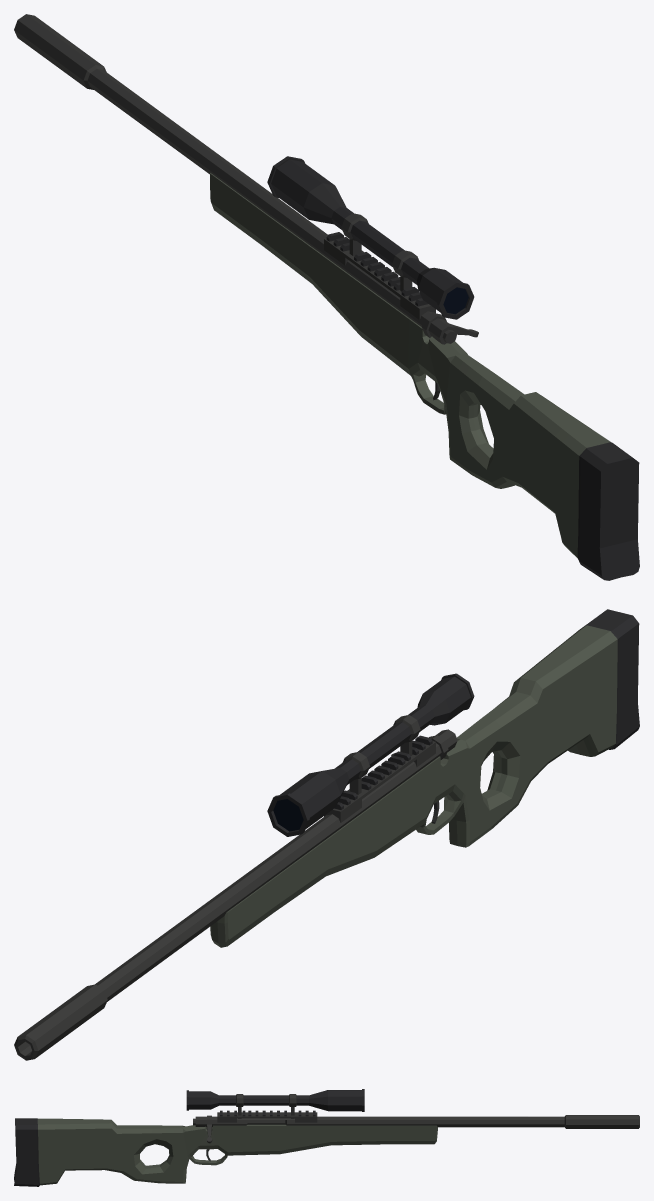
Rendered from sniper.glb.
3 views of the same model, one above another, from view 1: azimuth 30°, elevation 25°; view 2: azimuth 150°, elevation 25°; view 3: azimuth 270°, elevation 25° (orthographic). The views are drawn at different scales.
Visible parts, largest first — view 1: SniperRifle_3; view 2: SniperRifle_3; view 3: SniperRifle_3.
Boxes of the visible parts, <box> form: SniperRifle_3: <box>14,14,639,580</box>; SniperRifle_3: <box>14,609,639,1060</box>; SniperRifle_3: <box>14,1089,639,1186</box>.
Bounding box in the file's own units: 0.0738 × 0.1989 × 1.2.
Materials: 1 (1 with a texture image).
